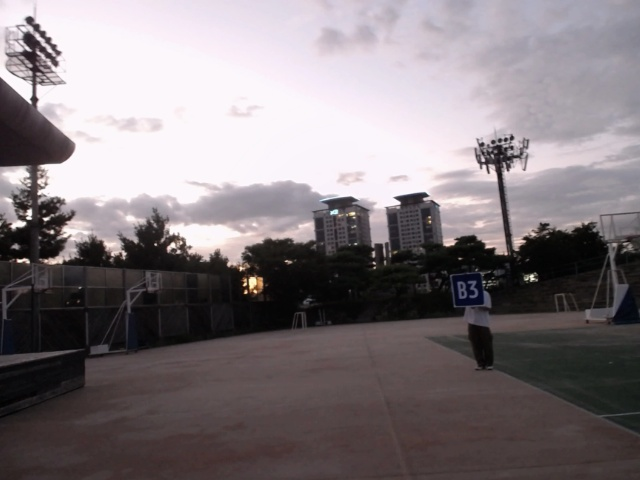delivery_b3: (448, 272, 486, 308)
